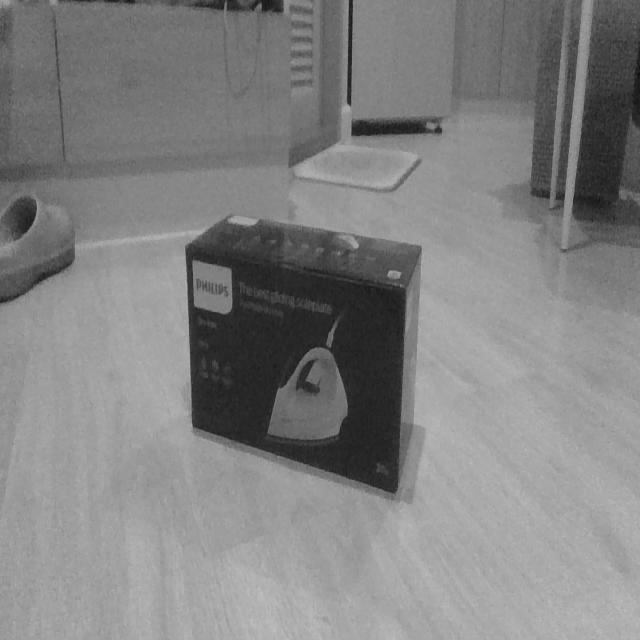IRON: (182, 209, 424, 499)
